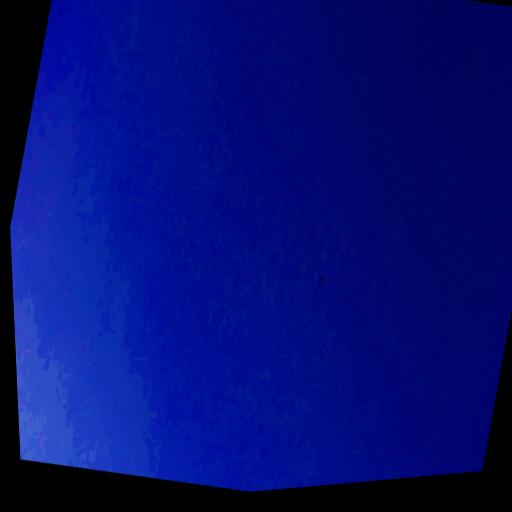drones: (314, 273, 327, 290)
